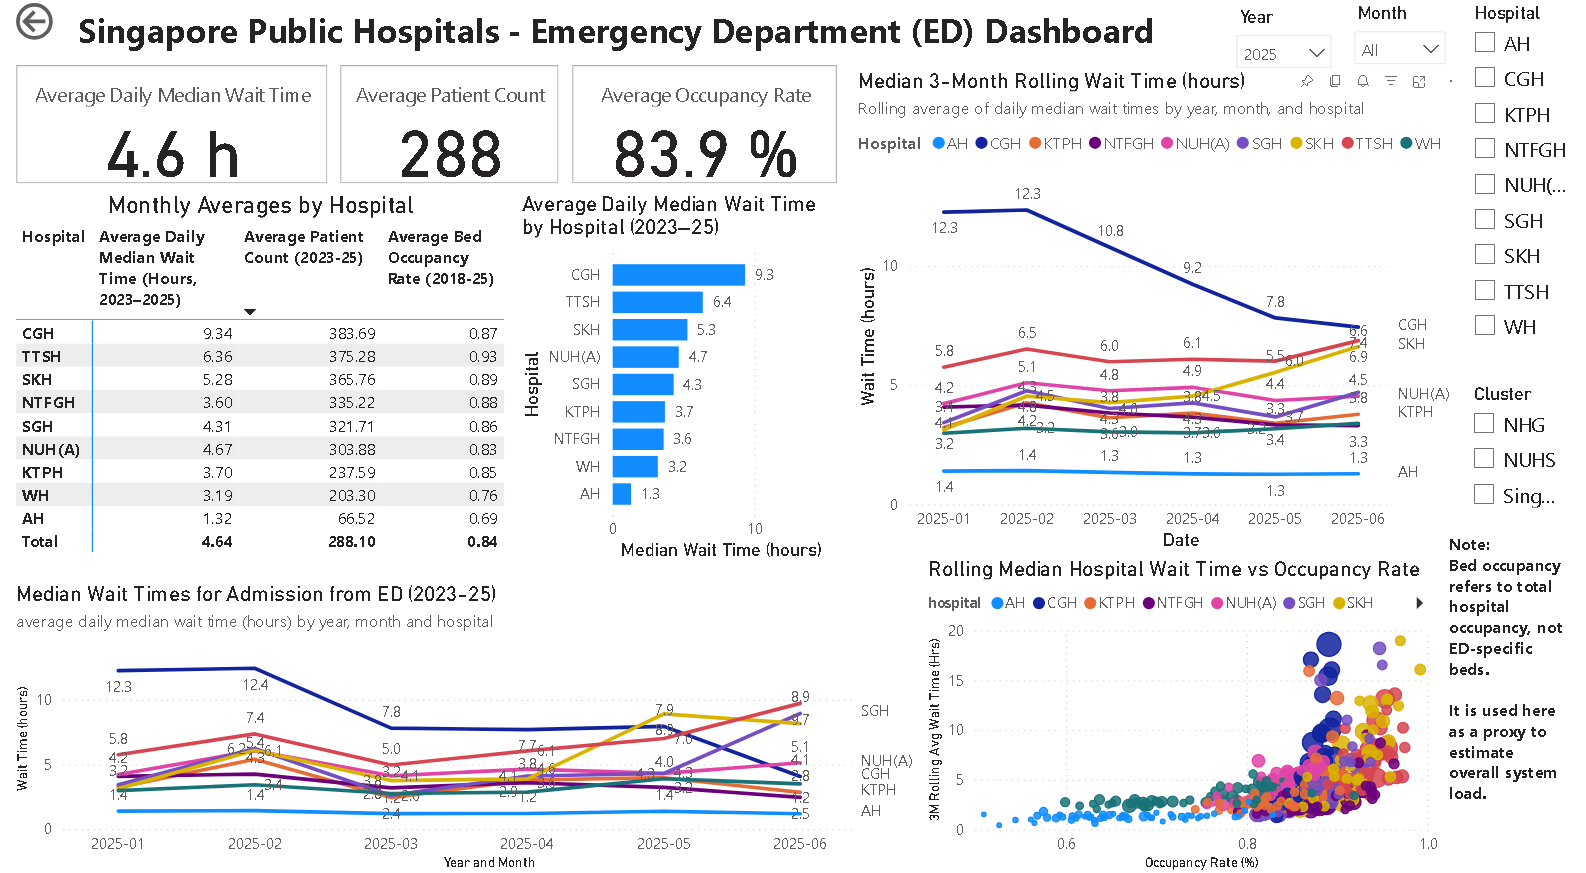

The page's visual inventory and layout, read from the dashboard file:
{"tool":"powerbi","page":{"name":"ED Activity & Capacity Summary","canvas":[1280,720],"ordinal":0},"visuals":[{"type":"lineChart","title":"Median Wait Times for Admission from ED (2023-25)","fields":{"Y":["Avg(public er_summary.wait_time)"],"Series":["public er_summary.hospital"],"Category":["Date.YearMonth"]},"box":[0,478.5,747,241.2],"z":0},{"type":"slicer","fields":{"Values":["public er_summary.hospital"]},"box":[1186.6,0,93.4,290.8],"z":1000},{"type":"clusteredBarChart","title":"Average Daily Median Wait Time by Hospital (2023–25)","fields":{"Category":["public er_summary.hospital"],"Y":["Avg(public er_summary.wait_time)"]},"box":[414.3,158.5,268.4,307.4],"z":2000},{"type":"pivotTable","title":"Monthly Averages by Hospital","fields":{"Rows":["public er_summary.hospital"],"Values":["Avg(public er_summary.wait_time)","Avg(public er_summary.patient_count)","Avg(public er_summary.occupancy_rate)"]},"box":[0,158.5,410.5,307.4],"z":3000},{"type":"slicer","fields":{"Values":["public er_summary.year"]},"box":[994,2.9,98.2,57.4],"z":4000},{"type":"slicer","fields":{"Values":["public er_summary.month"]},"box":[1091,0,95,63],"z":5000},{"type":"cardVisual","fields":{"Data":["Avg(public er_summary.wait_time)"]},"box":[0,50.6,265.5,108],"z":6000},{"type":"cardVisual","fields":{"Data":["Avg(public er_summary.occupancy_rate)"]},"box":[455.2,50.6,227.6,108],"z":7000},{"type":"cardVisual","fields":{"Data":["Avg(public er_summary.patient_count)"]},"box":[265.5,50.6,189.7,108],"z":8000},{"type":"scatterChart","title":"Rolling Median Hospital Wait Time vs Occupancy Rate","fields":{"X":["public er_summary.occupancy_rate"],"Size":["Sum(public er_summary.patient_count)"],"Y":["public er_summary.Rolling Avg Wait Time (3M)"],"Series":["public er_summary.hospital"]},"box":[747,458,427,262],"z":9000},{"type":"lineChart","title":"Median 3-Month Rolling Wait Time (hours)","fields":{"Y":["public er_summary.Rolling Avg Wait Time (3M)"],"Series":["public er_summary.hospital"],"Category":["Date.YearMonth"]},"box":[689.6,58.4,498,399.8],"z":10000},{"type":"textbox","box":[0,2.9,994,47.7],"z":11000},{"type":"slicer","fields":{"Values":["public er_summary.Hospital Cluster"]},"box":[1186,312,93,126],"z":12000},{"type":"actionButton","box":[0,0,100,40],"z":13000},{"type":"textbox","box":[1174,434,106,286],"z":15000}]}

Visuals, with their boxes in screenshot pixels (x1, y1, x2, y2), scaled from the page's 1280x720 canvas onto the 1586x873 screenshot:
"Median Wait Times for Admission from ED (2023-25)" lineChart: pyautogui.locateOnScreen(0, 580, 926, 872)
slicer - public er_summary.hospital: pyautogui.locateOnScreen(1470, 0, 1585, 353)
"Average Daily Median Wait Time by Hospital (2023–25)" clusteredBarChart: pyautogui.locateOnScreen(513, 192, 846, 565)
"Monthly Averages by Hospital" pivotTable: pyautogui.locateOnScreen(0, 192, 509, 565)
slicer - public er_summary.year: pyautogui.locateOnScreen(1232, 4, 1353, 73)
slicer - public er_summary.month: pyautogui.locateOnScreen(1352, 0, 1470, 76)
cardVisual - Avg(public er_summary.wait_time): pyautogui.locateOnScreen(0, 61, 329, 192)
cardVisual - Avg(public er_summary.occupancy_rate): pyautogui.locateOnScreen(564, 61, 846, 192)
cardVisual - Avg(public er_summary.patient_count): pyautogui.locateOnScreen(329, 61, 564, 192)
"Rolling Median Hospital Wait Time vs Occupancy Rate" scatterChart: pyautogui.locateOnScreen(926, 555, 1455, 872)
"Median 3-Month Rolling Wait Time (hours)" lineChart: pyautogui.locateOnScreen(854, 71, 1472, 556)
textbox: pyautogui.locateOnScreen(0, 4, 1232, 61)
slicer - public er_summary.Hospital Cluster: pyautogui.locateOnScreen(1470, 378, 1585, 531)
actionButton: pyautogui.locateOnScreen(0, 0, 124, 48)
textbox: pyautogui.locateOnScreen(1455, 526, 1585, 872)
